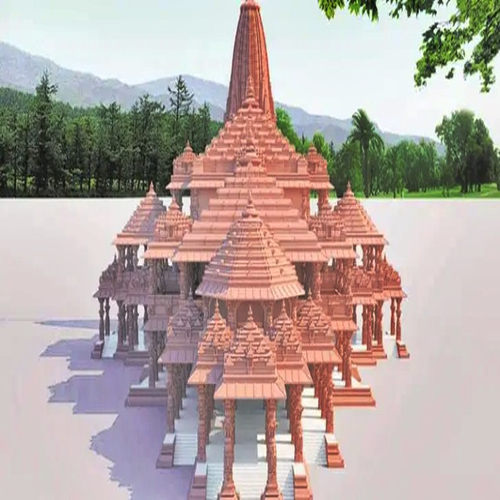Temple: (108, 10, 405, 456)
